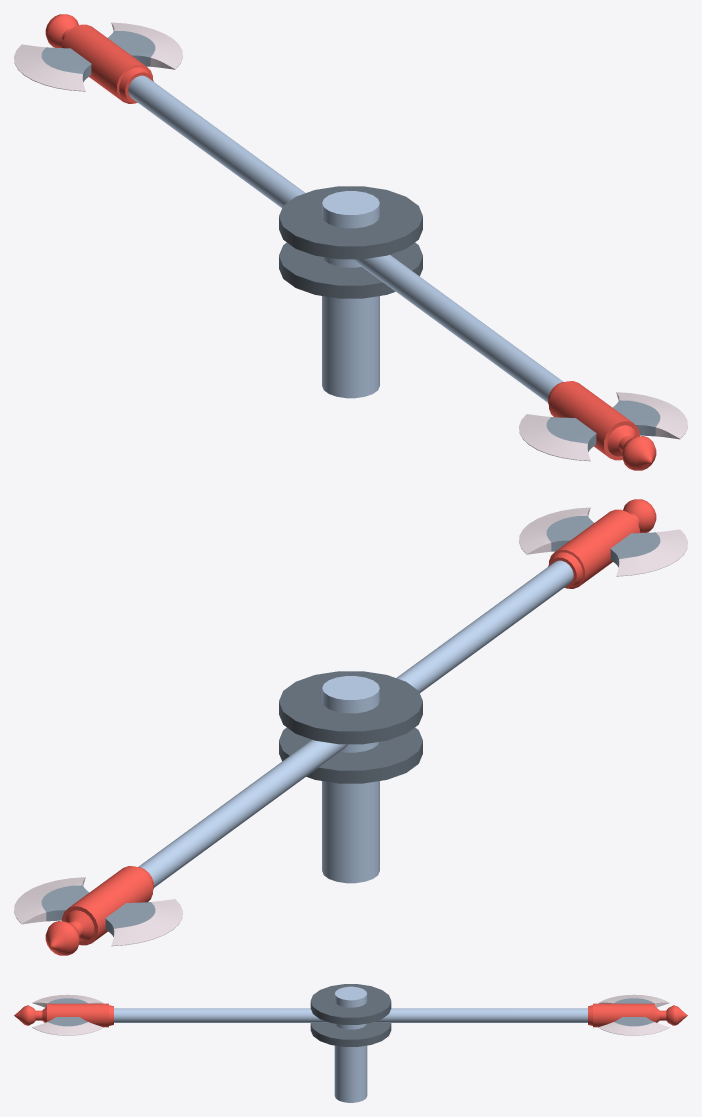
The model's file is AxeHorizontal02.fbx.
3 renders of one model, top to bottom at view 1: azimuth 30°, elevation 25°; view 2: azimuth 150°, elevation 25°; view 3: azimuth 270°, elevation 25°, orthographic. The views are drawn at different scales.
Parts seen in each view (by area): view 1: Axe.003, AxeBase.001; view 2: Axe.003, AxeBase.001; view 3: Axe.003, AxeBase.001.
Part boxes in pixels (x1,y1,x2,y2): Axe.003: [14, 14, 687, 470]; AxeBase.001: [279, 186, 422, 398]; Axe.003: [14, 499, 687, 955]; AxeBase.001: [279, 671, 422, 883]; Axe.003: [14, 994, 687, 1035]; AxeBase.001: [310, 984, 391, 1102].
Bounding box in the file's own units: 119 × 147 × 833.
